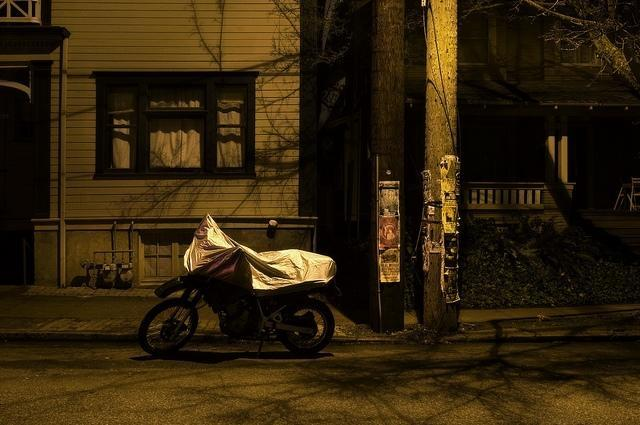motorcycle: (136, 211, 337, 354)
